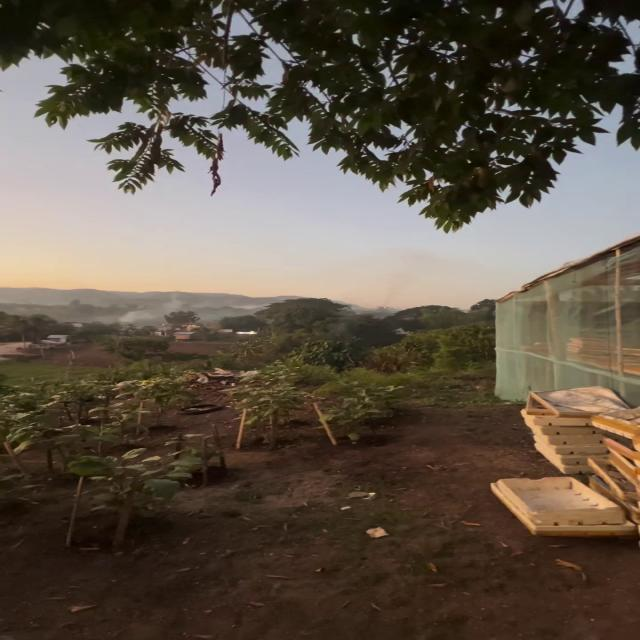Smoke: (101, 282, 200, 336)
